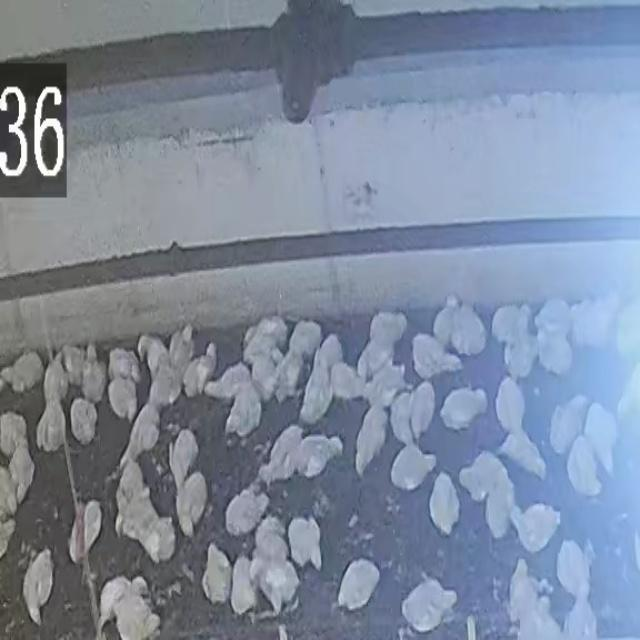chicken: (117, 394, 160, 468)
